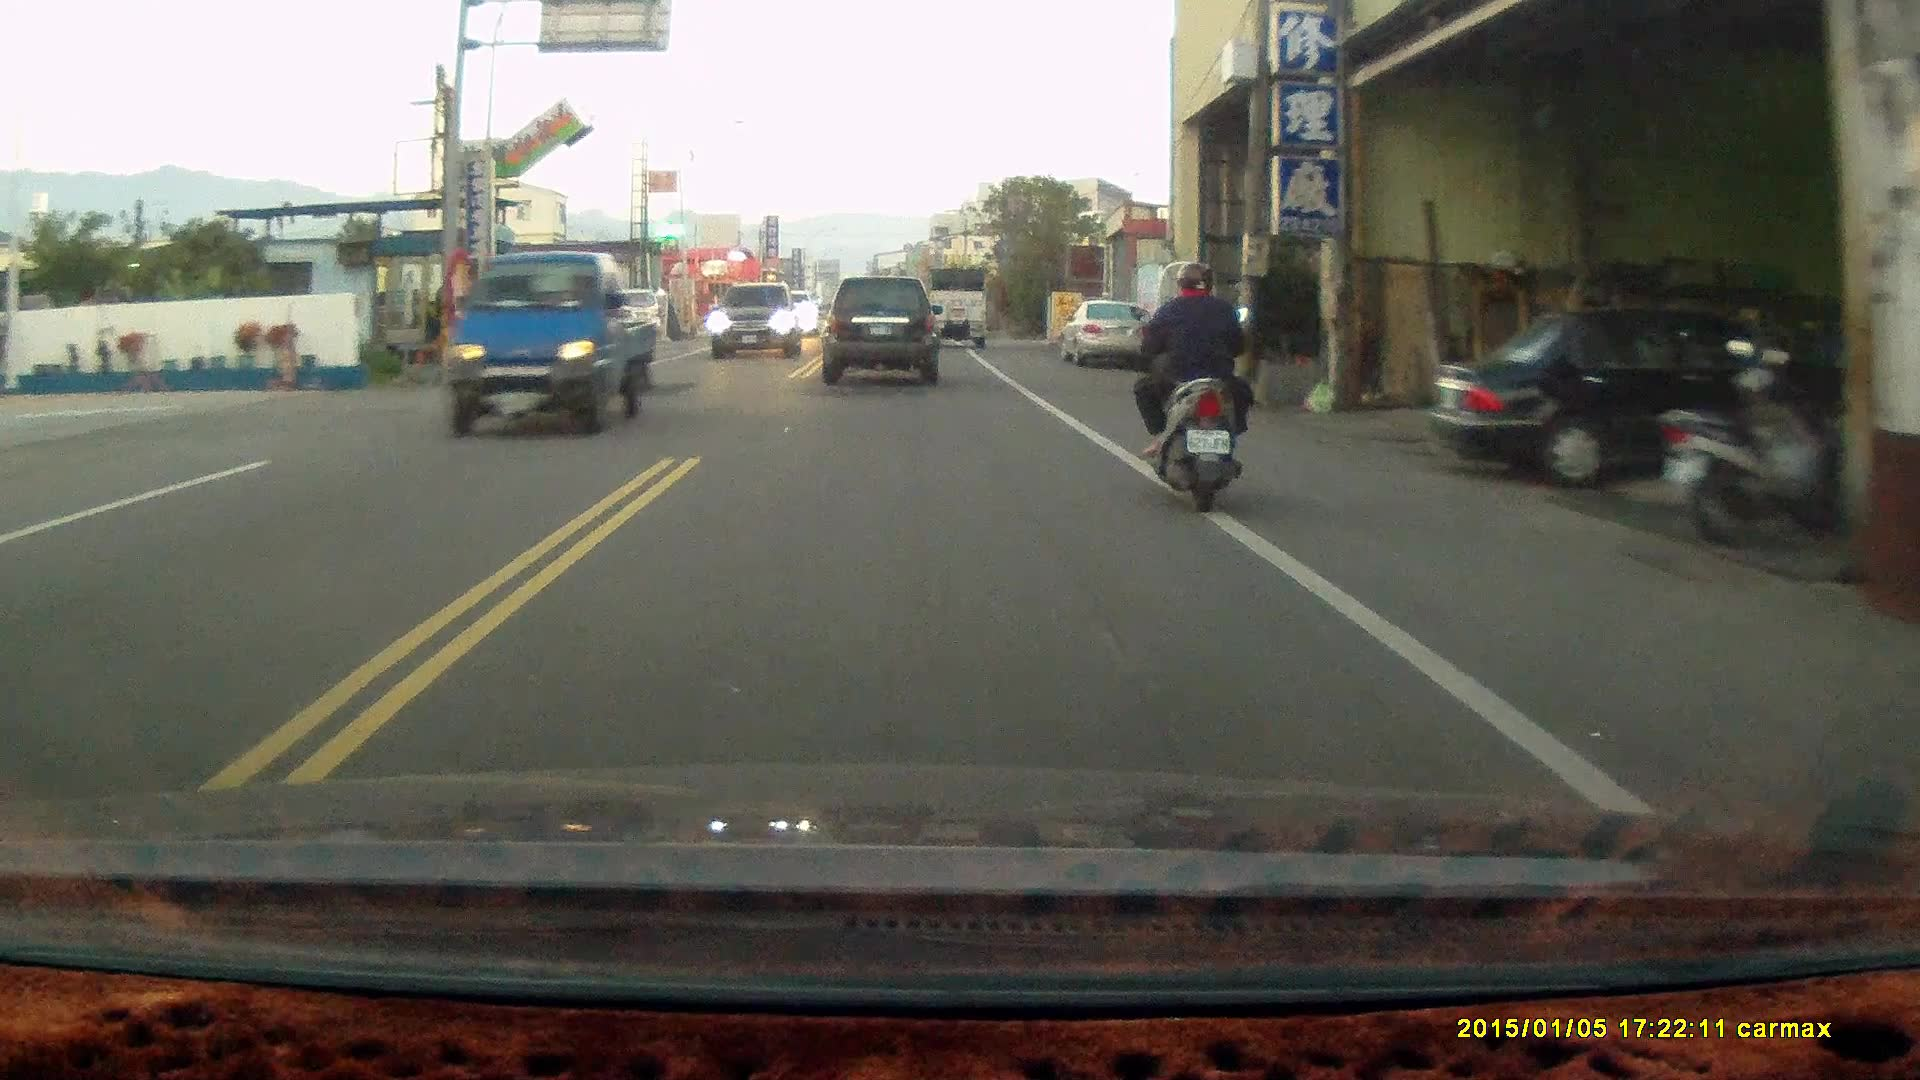rider: (1125, 258, 1251, 517)
vehicle: (1427, 302, 1854, 497), (445, 256, 667, 439), (822, 274, 942, 387), (713, 285, 808, 362), (1056, 295, 1157, 366), (924, 271, 993, 354)
